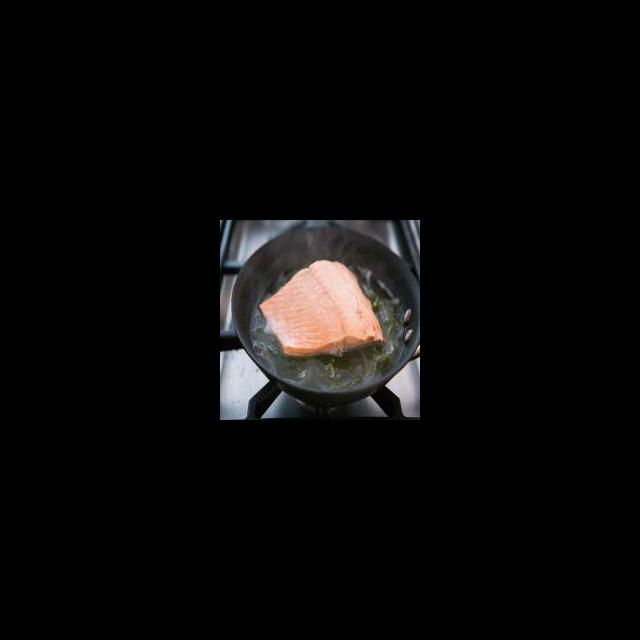ca hoi: (257, 257, 387, 358)
